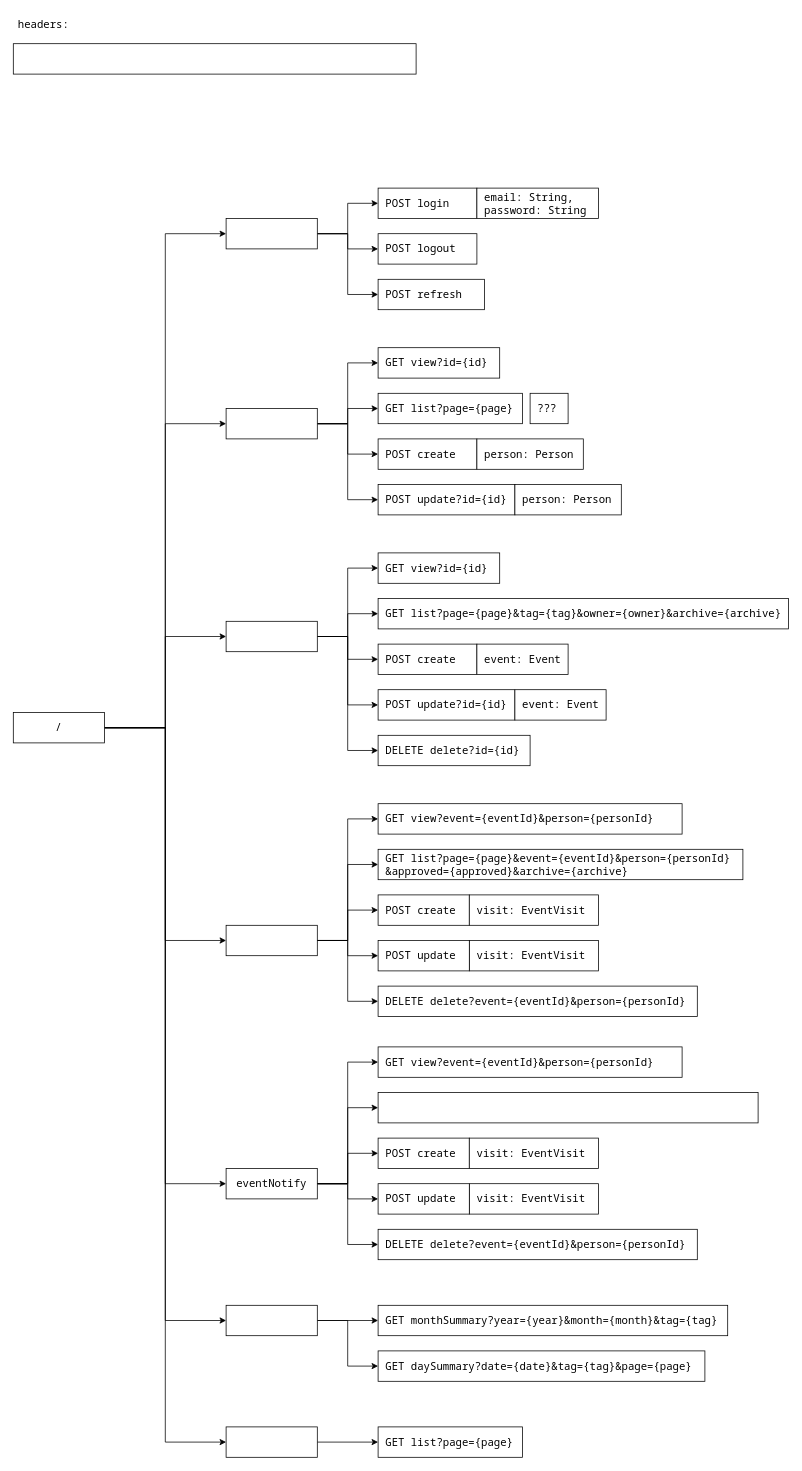
Some shapes in this 802 by 1471 pixel diagram are drawn without their labels. Here are the shapes that lost their labels. From the top down, the centre of each, then its label:
the point at 214,58: Authorization: sessionId={sessionId}&password={password}
the point at 271,233: auth
the point at 271,423: person
the point at 271,636: event
the point at 271,940: eventVisit
the point at 567,1107: GET list?page={page}&person={personId}&archive={archive}
the point at 271,1320: calendar
the point at 271,1441: tag
